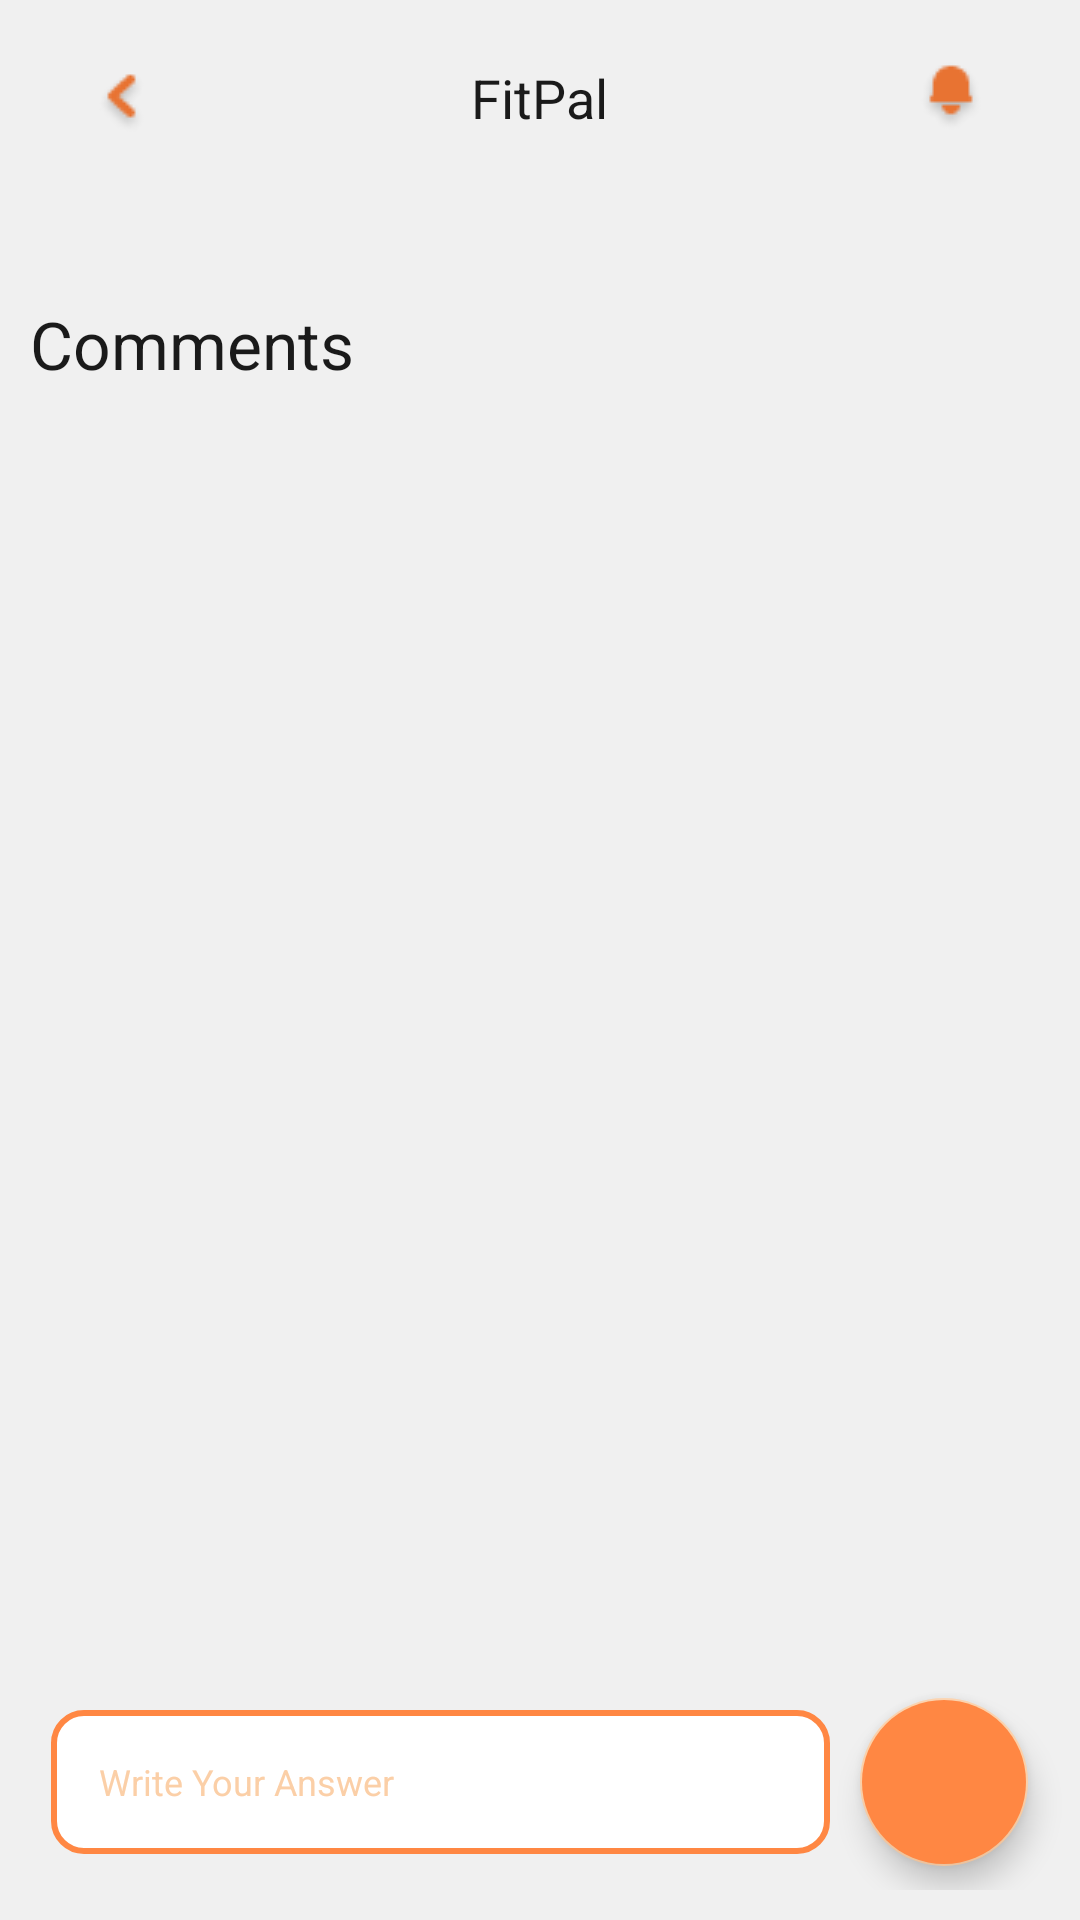

Icon click points for this 1080px x 1920px phone screenshot, format point (x, y):
Back: point (121, 97)
Notify: point (951, 91)
